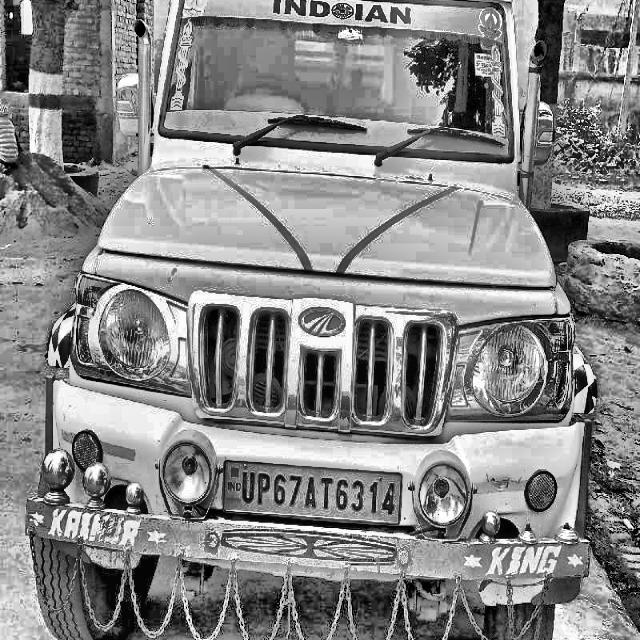light_vehicle: (31, 0, 590, 578)
